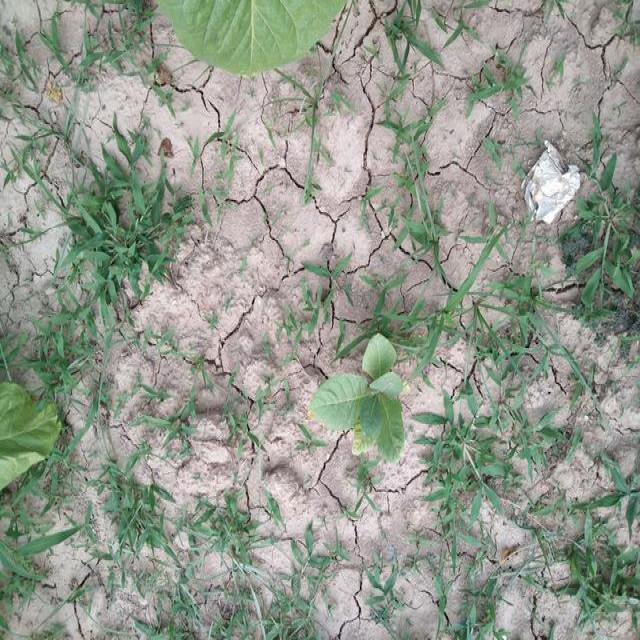crop: (157, 0, 353, 76), (313, 336, 407, 464), (1, 382, 60, 484)
